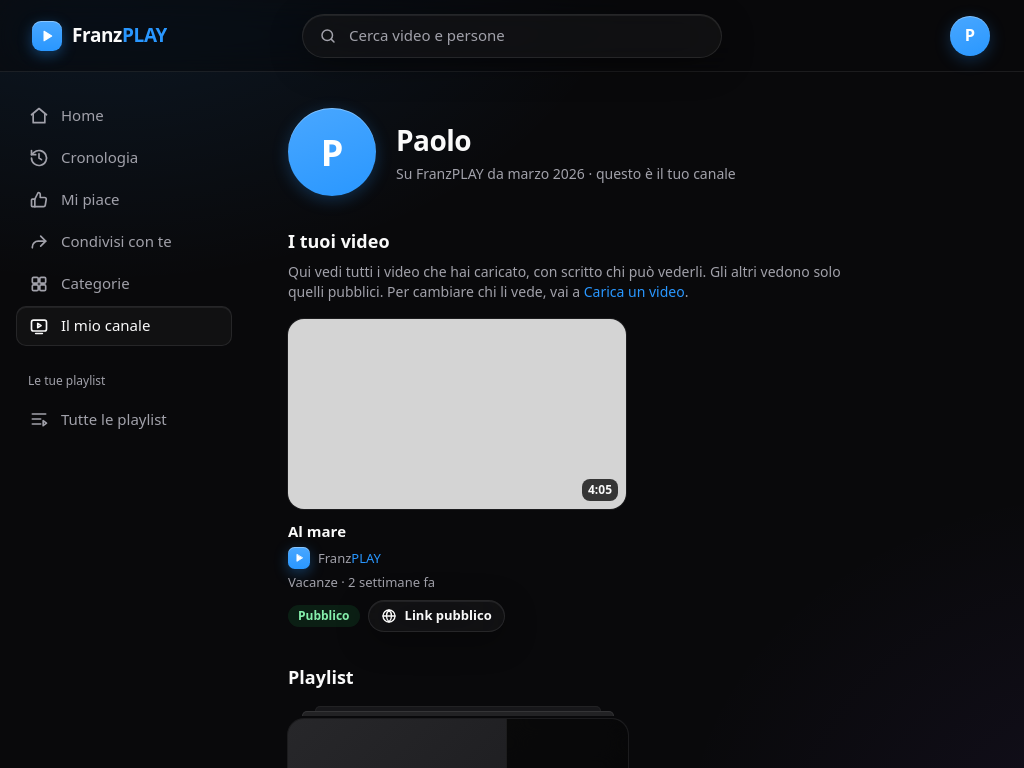
channel page › lets me manage the public links of my videos only with the permission
Expected: the heading "Al mare" is shown, [288,521,346,541]
Expected: the text "Pubblico" is shown, [288,605,360,627]
Click the button with aria-label "Link pubblico di Al mare" at (436, 616), box [368,600,505,632]
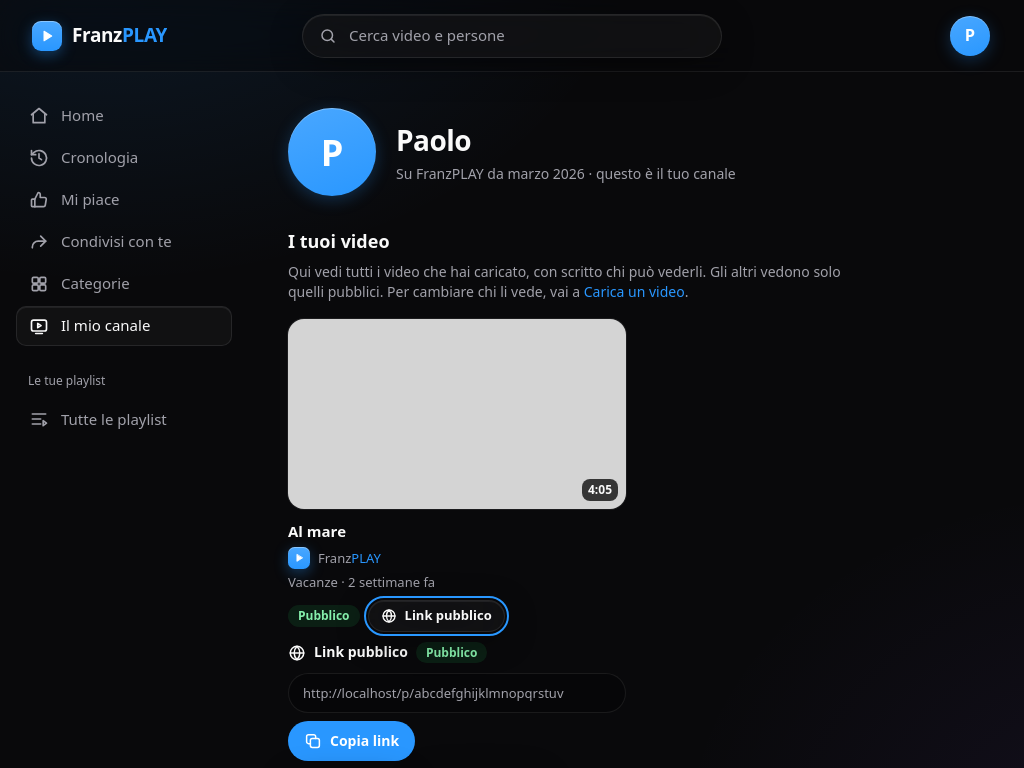
Now the button "Copia link" is shown, box [288,721,415,761]
